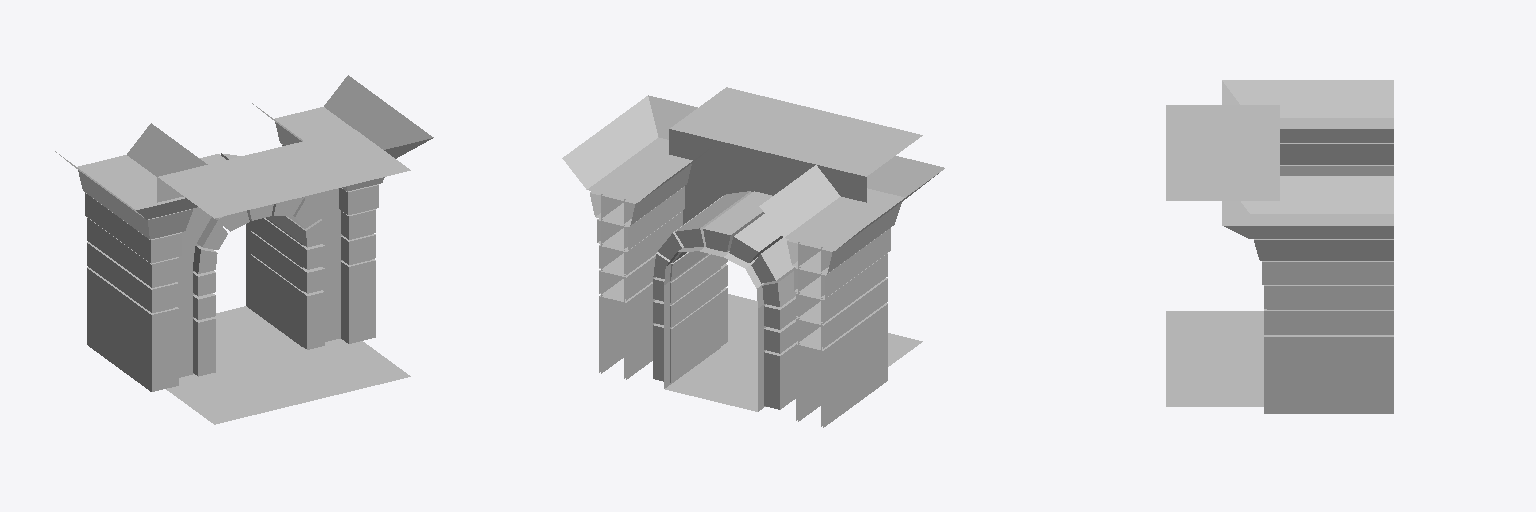
3 views of the same model, side by side, from view 1: azimuth 30°, elevation 25°; view 2: azimuth 150°, elevation 25°; view 3: azimuth 270°, elevation 25° (orthographic).
Visible parts, largest first — view 1: objobjobjobjDuplicate01f; view 2: objobjobjobjDuplicate01f; view 3: objobjobjobjDuplicate01f.
Boxes of the visible parts, x1,y1,x2,y2 form: objobjobjobjDuplicate01f: [55, 75, 433, 424]; objobjobjobjDuplicate01f: [562, 87, 944, 427]; objobjobjobjDuplicate01f: [1166, 80, 1393, 413].
Size of the model in its own units: 15.11 by 10 by 10.